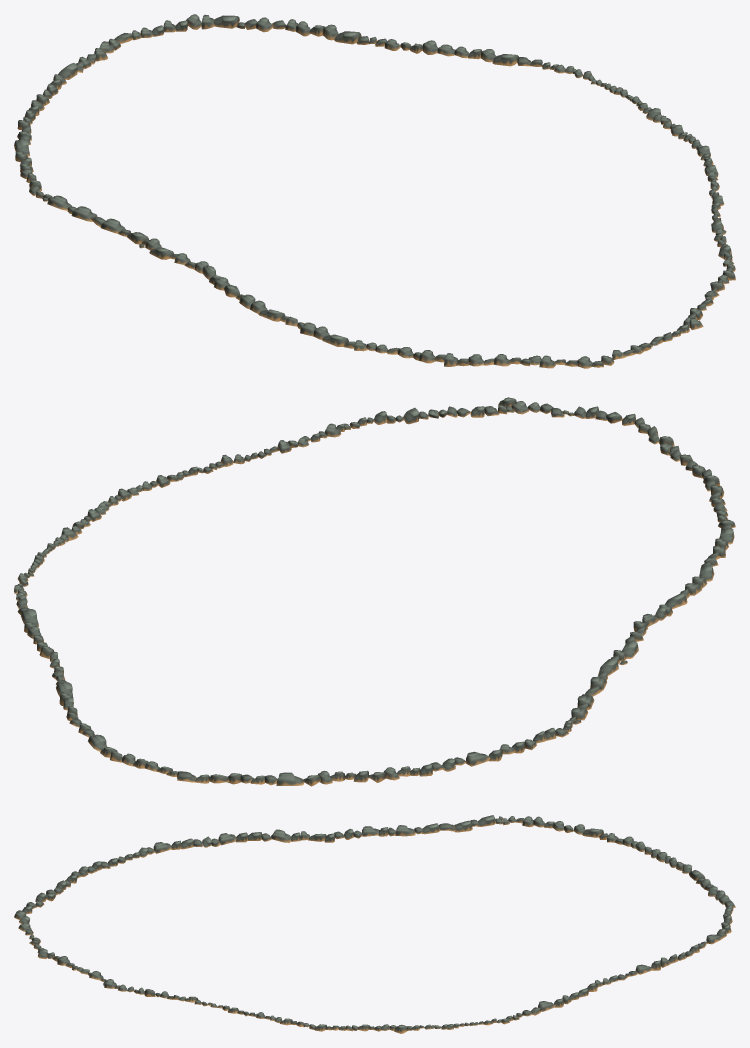
Rendered from difuchangjing_hebian_shitou.FBX.
3 views of the same model, one above another, from view 1: azimuth 30°, elevation 25°; view 2: azimuth 150°, elevation 25°; view 3: azimuth 270°, elevation 25° (orthographic). The views are drawn at different scales.
Visible parts, largest first — view 1: difuchangjing_hebian_shitou; view 2: difuchangjing_hebian_shitou; view 3: difuchangjing_hebian_shitou.
Part boxes in pixels (x1,y1,x2,y2): difuchangjing_hebian_shitou: (14,14,735,368); difuchangjing_hebian_shitou: (14,397,735,786); difuchangjing_hebian_shitou: (14,815,735,1033).
Bounding box in the file's own units: 23440 × 534 × 33690.
